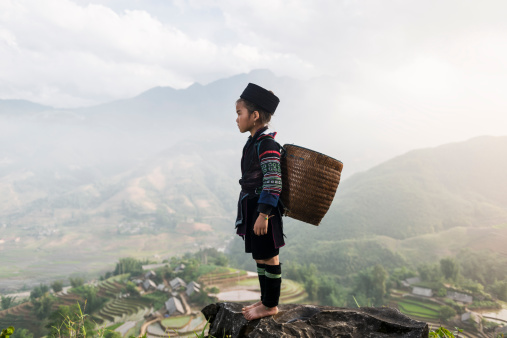em pe: (228, 78, 290, 324)
